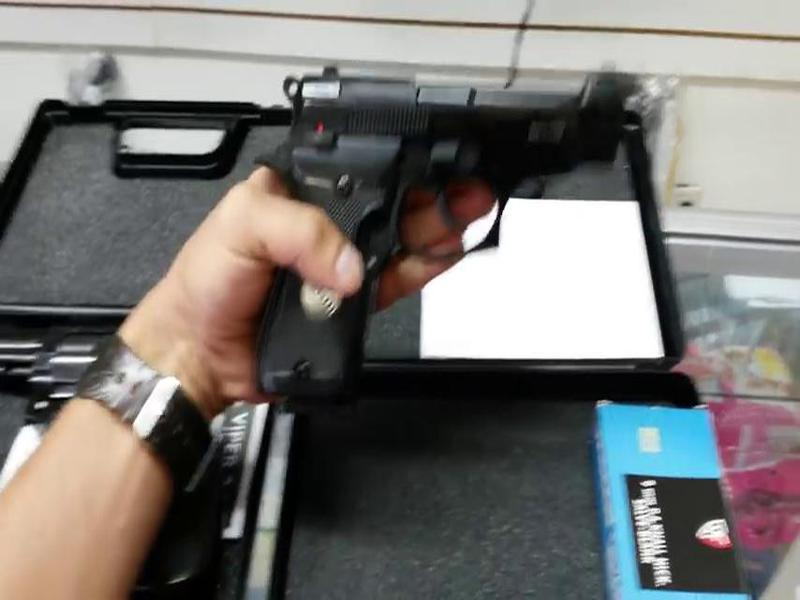Pistola: (243, 44, 642, 414)
